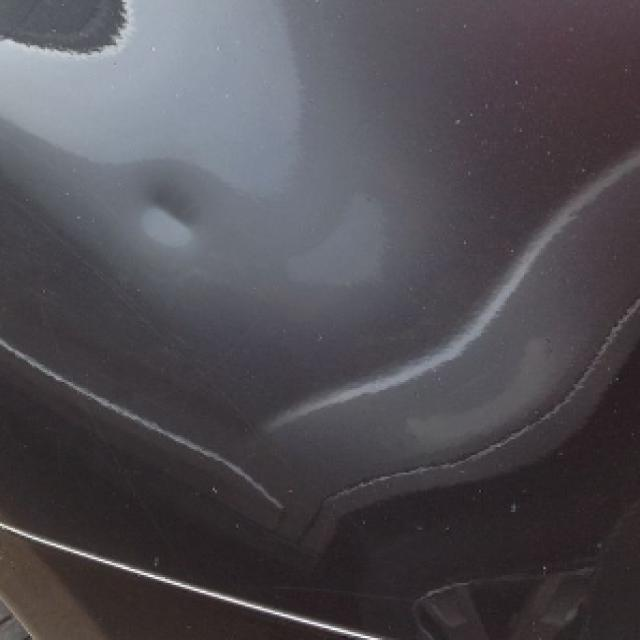dents: (103, 150, 239, 300)
